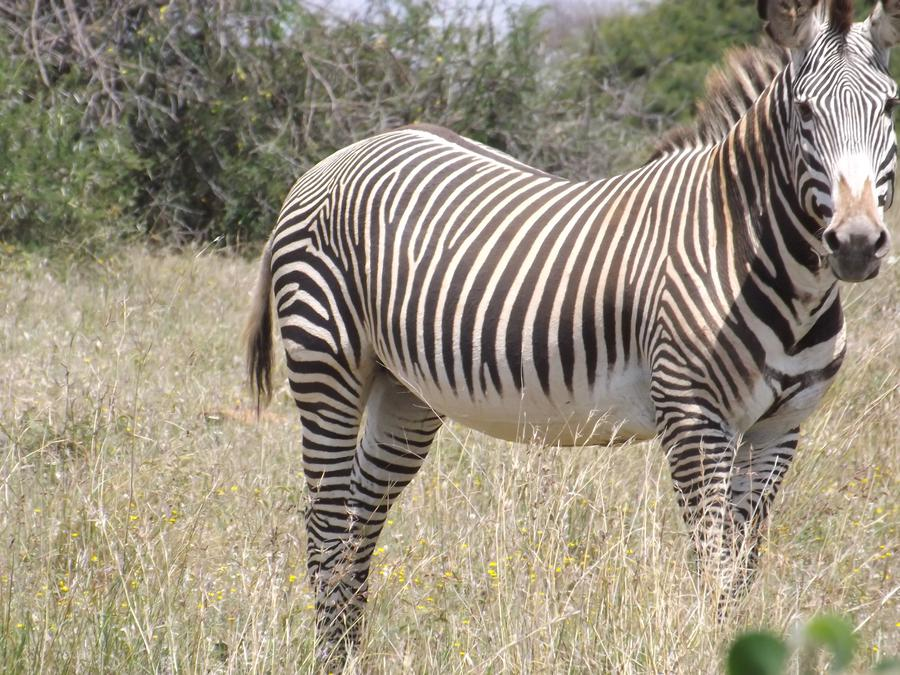zebra_grevys: (267, 92, 763, 419)
